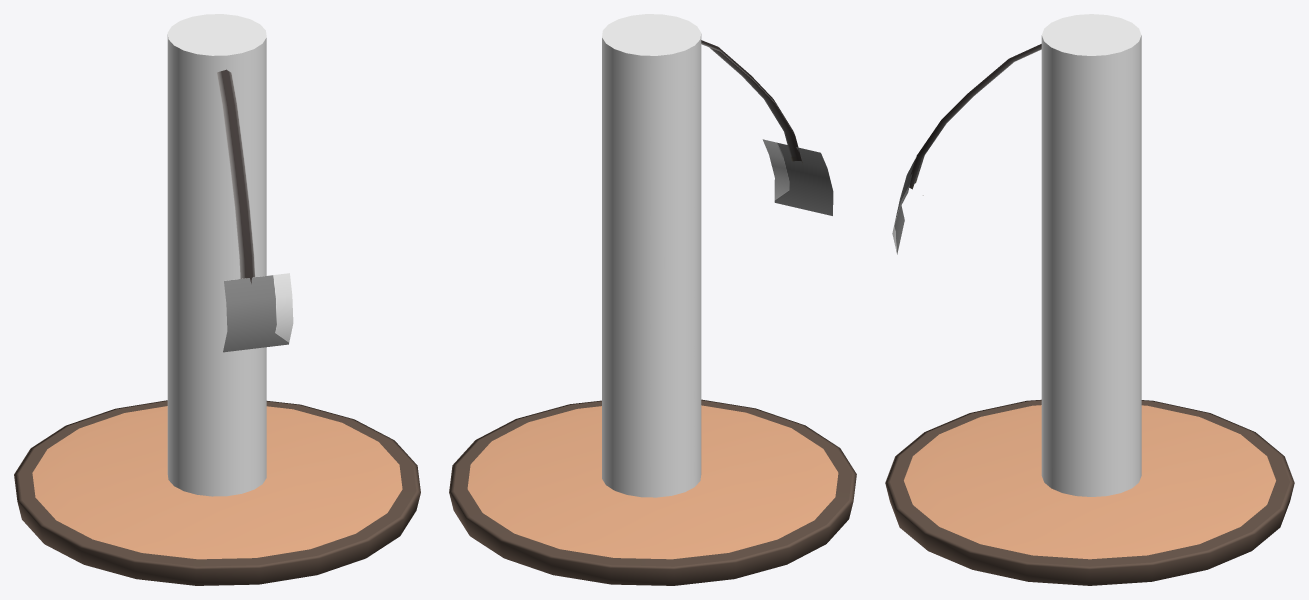
File: Mesh_ArbreChat.fbx
3 views of the same model, side by side, from view 1: azimuth 30°, elevation 25°; view 2: azimuth 150°, elevation 25°; view 3: azimuth 270°, elevation 25° (orthographic).
Parts seen in each view (by area): view 1: ArbreChat; view 2: ArbreChat; view 3: ArbreChat.
Part boxes in pixels (box(x1,y1,x2,y2)): ArbreChat: box(14, 14, 420, 585); ArbreChat: box(449, 14, 856, 585); ArbreChat: box(885, 14, 1294, 585).
Size of the model in its own units: 0.2832 by 0.3574 by 0.2832.
